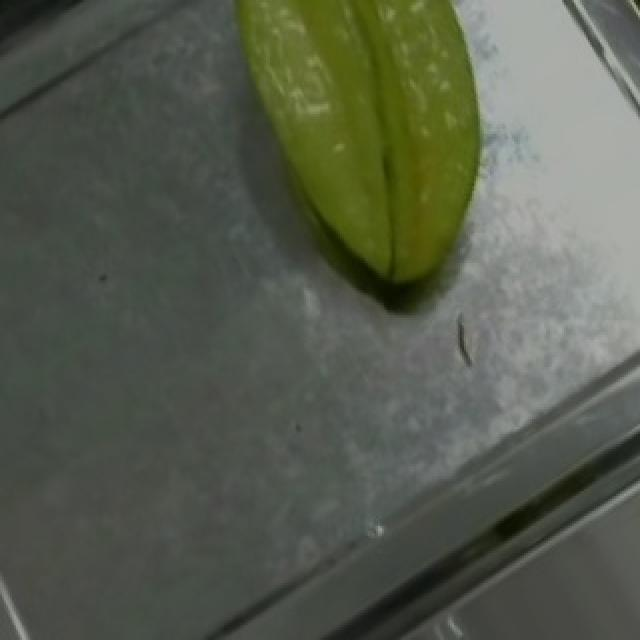fruit: (182, 0, 564, 322)
